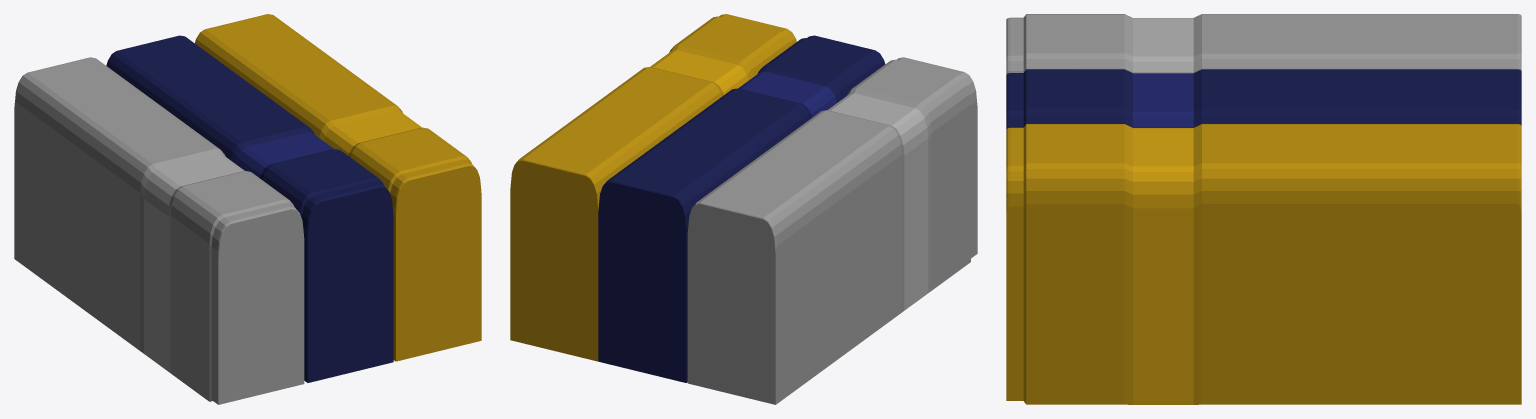
Rendered from Towels.fbx.
The picture shows the model from 3 angles, left to right: view 1: azimuth 30°, elevation 25°; view 2: azimuth 150°, elevation 25°; view 3: azimuth 270°, elevation 25°; orthographic projection. The views are drawn at different scales.
Parts seen in each view (by area): view 1: Towels; view 2: Towels; view 3: Towels.
Part boxes in pixels (left/top/right/bottom): Towels: left=14, top=14, right=481, bottom=404; Towels: left=510, top=14, right=977, bottom=404; Towels: left=1006, top=14, right=1521, bottom=404.
Size of the model in its own units: 42.45 by 28.21 by 56.24.
